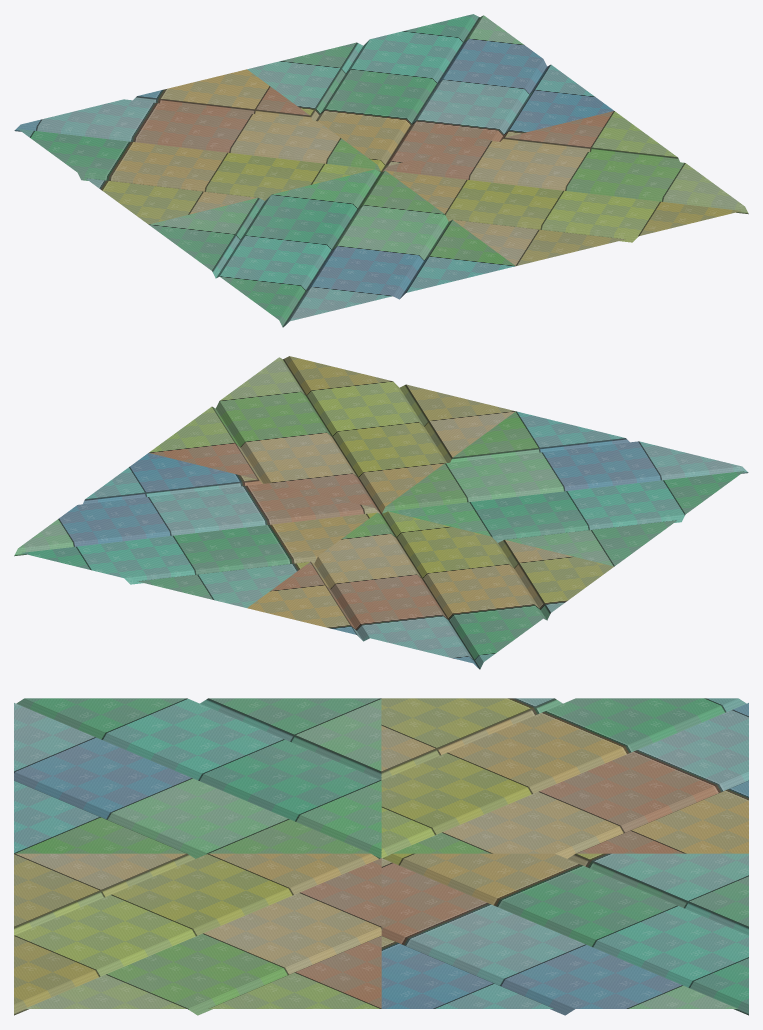
The model's file is tile_floor_customer.glb.
3 views of the same model, one above another, from view 1: azimuth 30°, elevation 25°; view 2: azimuth 150°, elevation 25°; view 3: azimuth 270°, elevation 25° (orthographic). The views are drawn at different scales.
Visible parts, largest first — view 1: tile_floor_customer; view 2: tile_floor_customer; view 3: tile_floor_customer.
Part boxes in pixels (bbox=[...]): tile_floor_customer: bbox=[14, 14, 748, 327]; tile_floor_customer: bbox=[14, 356, 748, 669]; tile_floor_customer: bbox=[14, 698, 748, 1015].
Bounding box in the file's own units: 1 × 0.01 × 1.
Materials: 1 (1 with a texture image).
